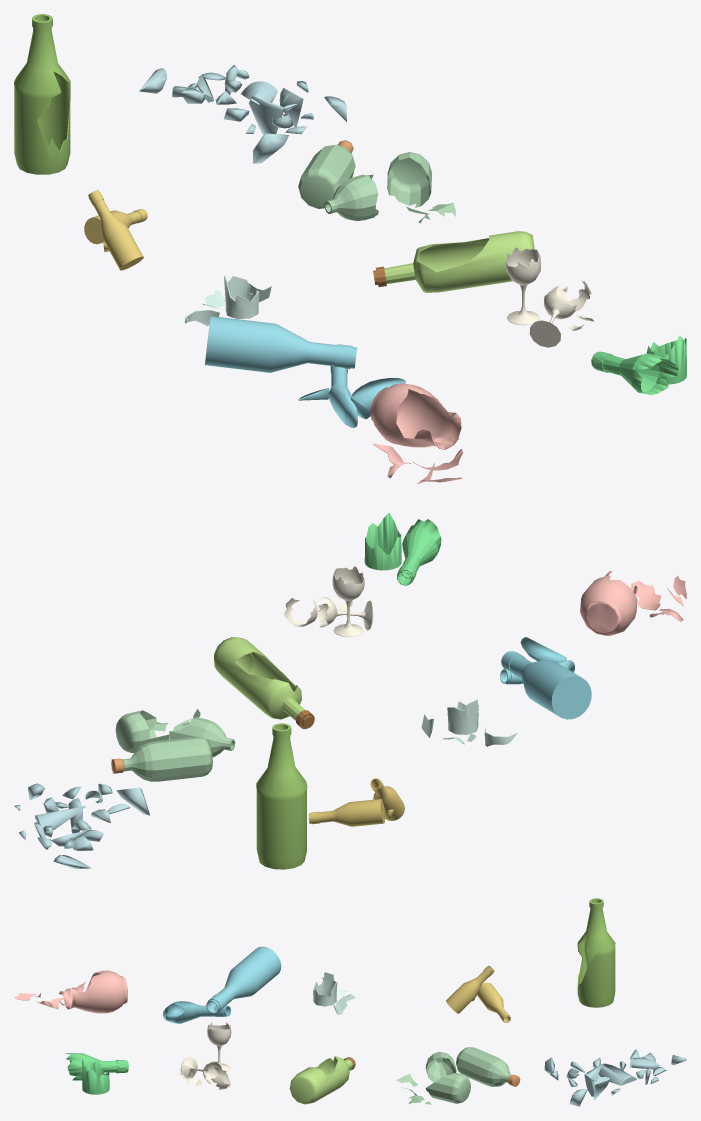
File: GLASS_FINISH.fbx
3 views of the same model, one above another, from view 1: azimuth 30°, elevation 25°; view 2: azimuth 150°, elevation 25°; view 3: azimuth 270°, elevation 25° (orthographic). The views are drawn at different scales.
Visible parts, largest first — view 1: Broken bottles 2, Bottle 1, Broken bottles 1, Bottle 2, Shades of glass, Broken vase, Wineglass, Broken bottles 3, Bottles 2, Broken glass; view 2: Broken bottles 1, Bottle 1, Bottle 2, Broken bottles 2, Shades of glass, Broken vase, Broken bottles 3, Wineglass, Bottles 2, Broken glass; view 3: Broken bottles 1, Bottle 1, Broken bottles 2, Shades of glass, Broken vase, Bottle 2, Broken bottles 3, Wineglass, Bottles 2, Broken glass.
Boxes of the visible parts, x1=… form: Broken bottles 2: x1=205, y1=316, x2=405, y2=427; Bottle 1: x1=14, y1=14, x2=70, y2=174; Broken bottles 1: x1=298, y1=140, x2=455, y2=223; Bottle 2: x1=373, y1=231, x2=534, y2=292; Shades of glass: x1=139, y1=65, x2=346, y2=163; Broken vase: x1=370, y1=383, x2=463, y2=483; Wineglass: x1=506, y1=247, x2=593, y2=347; Broken bottles 3: x1=591, y1=335, x2=686, y2=394; Bottles 2: x1=84, y1=190, x2=147, y2=270; Broken glass: x1=184, y1=276, x2=271, y2=326; Broken bottles 1: x1=111, y1=709, x2=235, y2=781; Bottle 1: x1=256, y1=723, x2=307, y2=869; Bottle 2: x1=214, y1=637, x2=314, y2=729; Broken bottles 2: x1=500, y1=637, x2=591, y2=719; Shades of glass: x1=14, y1=783, x2=149, y2=868; Broken vase: x1=580, y1=571, x2=686, y2=635; Broken bottles 3: x1=364, y1=513, x2=441, y2=585; Wineglass: x1=284, y1=566, x2=373, y2=637; Bottles 2: x1=308, y1=778, x2=404, y2=826; Broken glass: x1=421, y1=699, x2=517, y2=746; Broken bottles 1: x1=396, y1=1047, x2=520, y2=1104; Bottle 1: x1=577, y1=898, x2=615, y2=1007; Broken bottles 2: x1=162, y1=946, x2=281, y2=1023; Shades of glass: x1=544, y1=1049, x2=686, y2=1106; Broken vase: x1=14, y1=970, x2=127, y2=1013; Bottle 2: x1=289, y1=1056, x2=355, y2=1104; Broken bottles 3: x1=66, y1=1053, x2=128, y2=1094; Wineglass: x1=178, y1=1022, x2=231, y2=1089; Bottles 2: x1=446, y1=966, x2=510, y2=1022; Broken glass: x1=313, y1=972, x2=355, y2=1014.
Size of the model in its own units: 513 by 235 by 1160.
